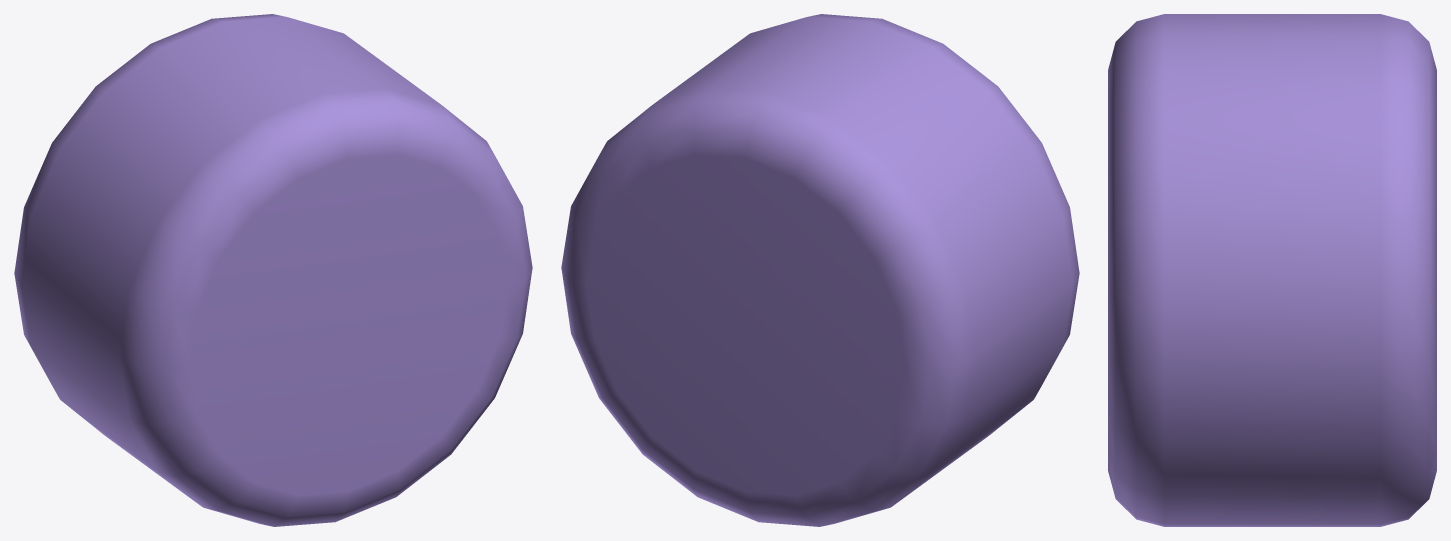
Rendered from SM_Knob.glb.
3 renders of one model, left to right at view 1: azimuth 30°, elevation 25°; view 2: azimuth 150°, elevation 25°; view 3: azimuth 270°, elevation 25°, orthographic. The views are drawn at different scales.
Parts seen in each view (by area): view 1: SM_Knob; view 2: SM_Knob; view 3: SM_Knob.
Part boxes in pixels (x1,y1,x2,y2): SM_Knob: [14, 14, 532, 526]; SM_Knob: [561, 14, 1079, 526]; SM_Knob: [1108, 14, 1436, 526].
Size of the model in its own units: 0.055 by 0.055 by 0.035.
Materials: 1 (1 with a texture image).
